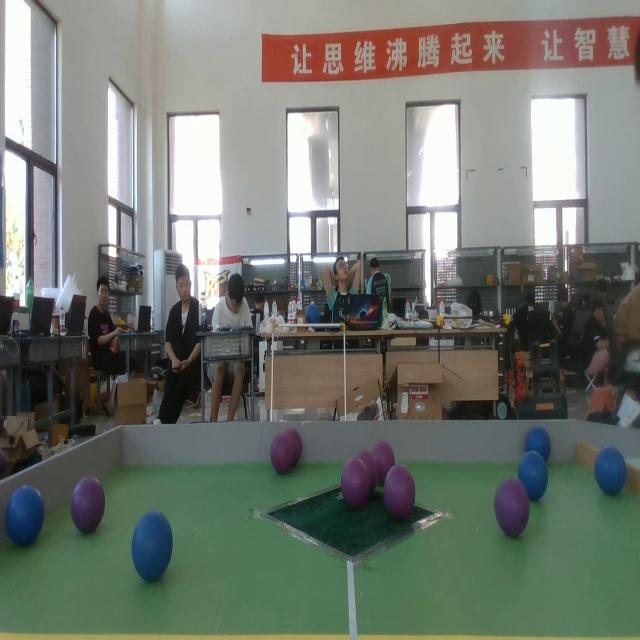blue: (134, 509, 174, 584), (5, 483, 44, 552), (518, 451, 548, 503), (596, 444, 626, 494), (526, 426, 551, 461)
invalid: (70, 474, 105, 538), (494, 480, 530, 534), (383, 465, 418, 520), (337, 457, 371, 508), (270, 432, 294, 476)
